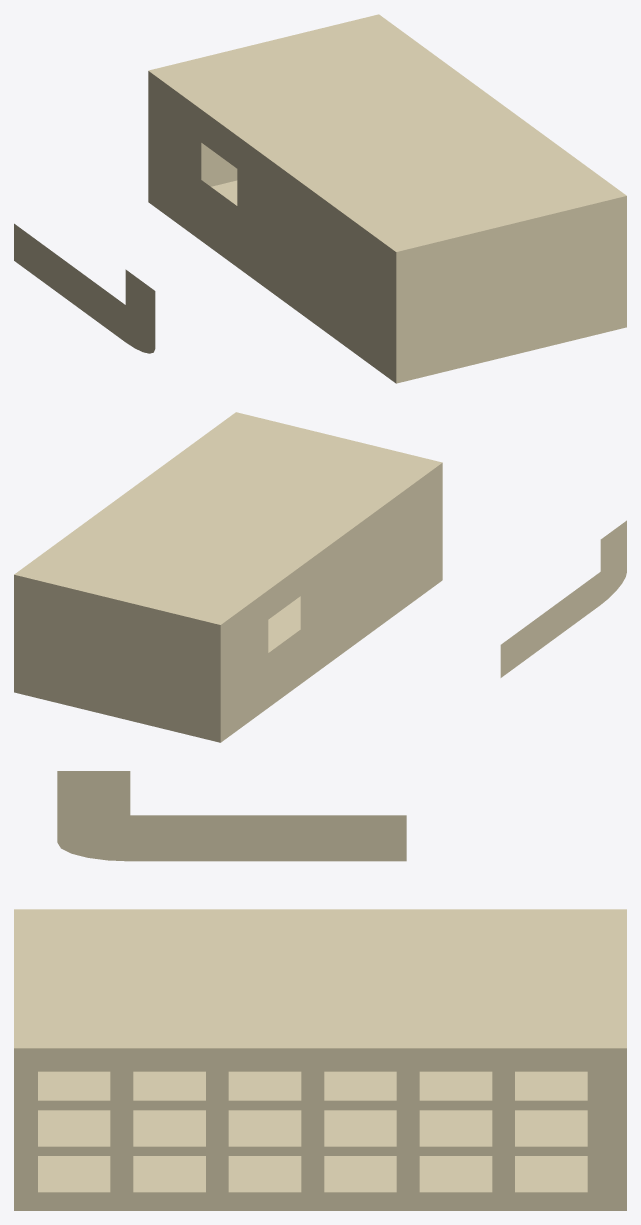
The model's file is Extractor.fbx.
3 renders of one model, top to bottom at view 1: azimuth 30°, elevation 25°; view 2: azimuth 150°, elevation 25°; view 3: azimuth 270°, elevation 25°, orthographic. The views are drawn at different scales.
Parts seen in each view (by area): view 1: Extractor; view 2: Extractor; view 3: Extractor.
Part boxes in pixels (x1=…): Extractor: x1=14, y1=14, x2=626, y2=383; Extractor: x1=14, y1=412, x2=626, y2=742; Extractor: x1=14, y1=771, x2=626, y2=1210.
Bounding box in the file's own units: 735 × 208 × 695.
